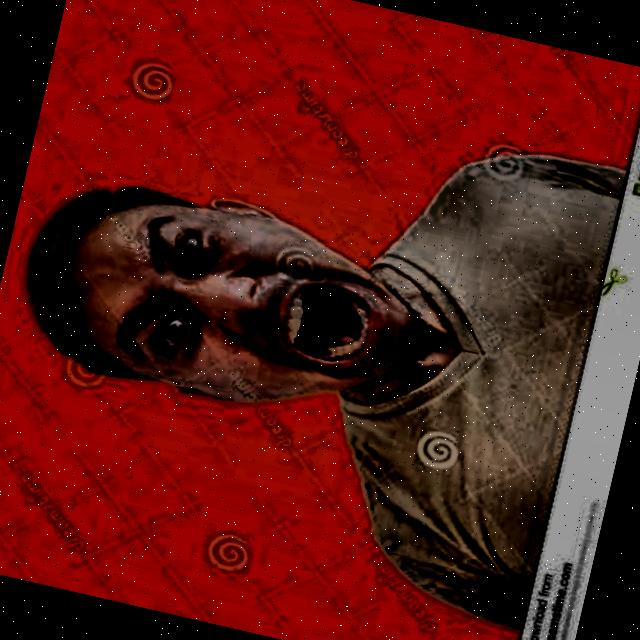angry: (0, 139, 497, 461)
